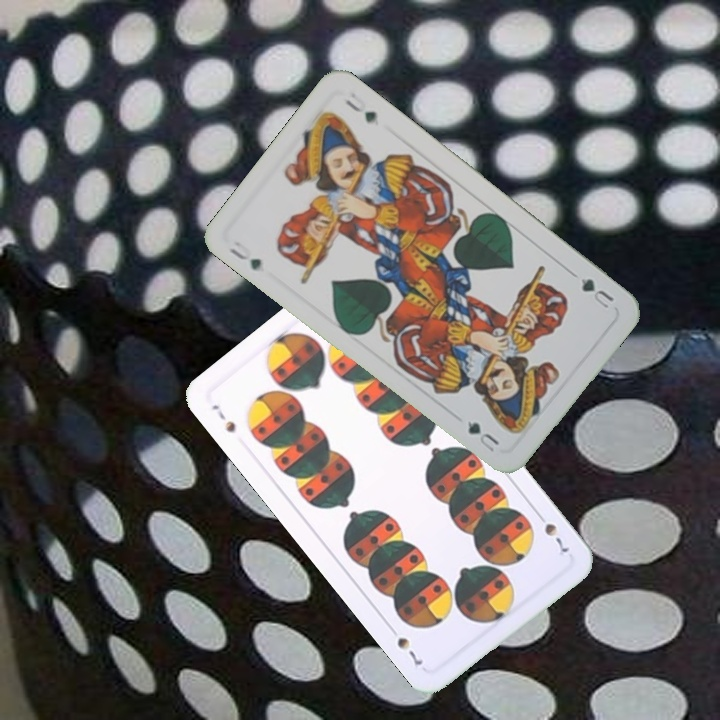GU: (576, 274, 617, 313), (225, 243, 264, 273)
S7: (532, 507, 571, 555), (208, 400, 239, 436)
